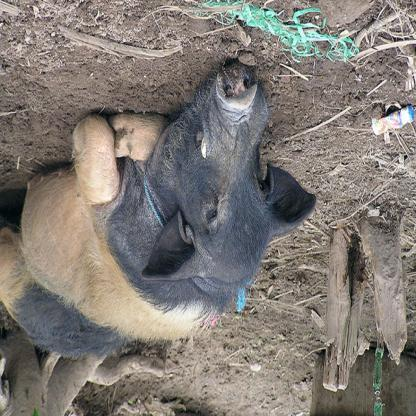boar: (0, 61, 316, 361)
